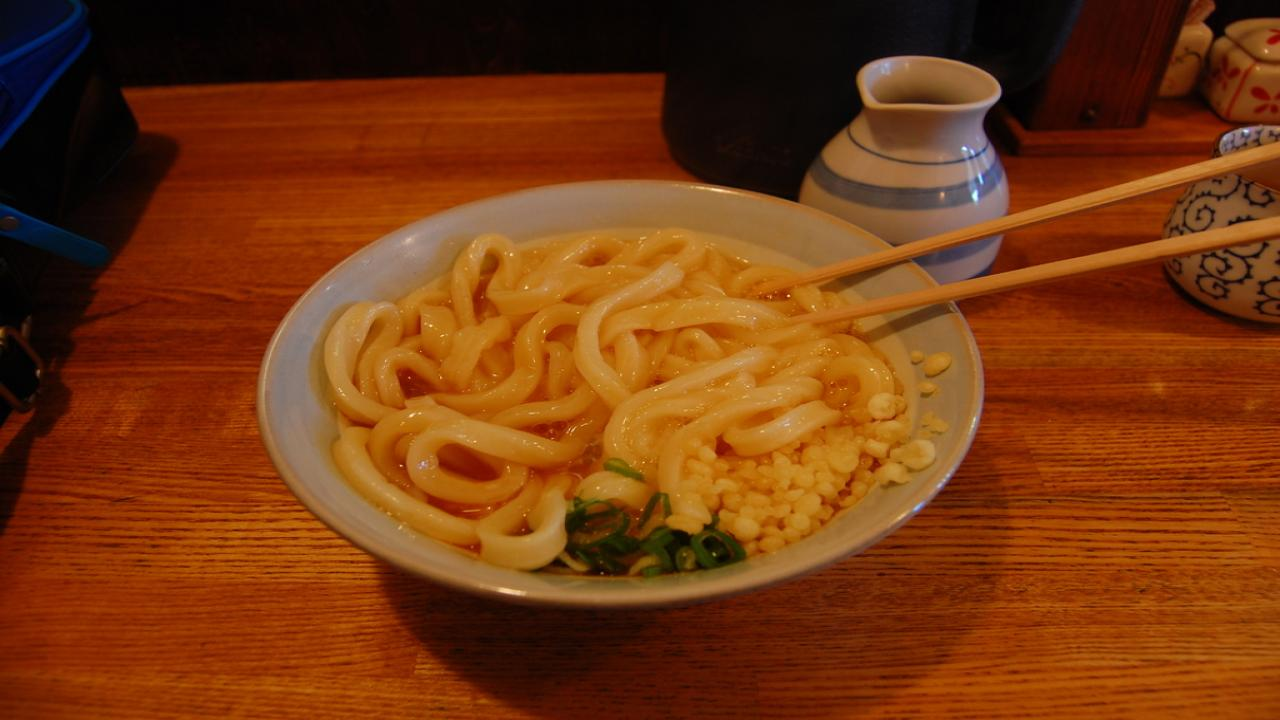chopstick: (771, 142, 1280, 320)
